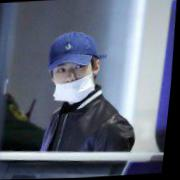WRONG: (53, 56, 97, 103)
